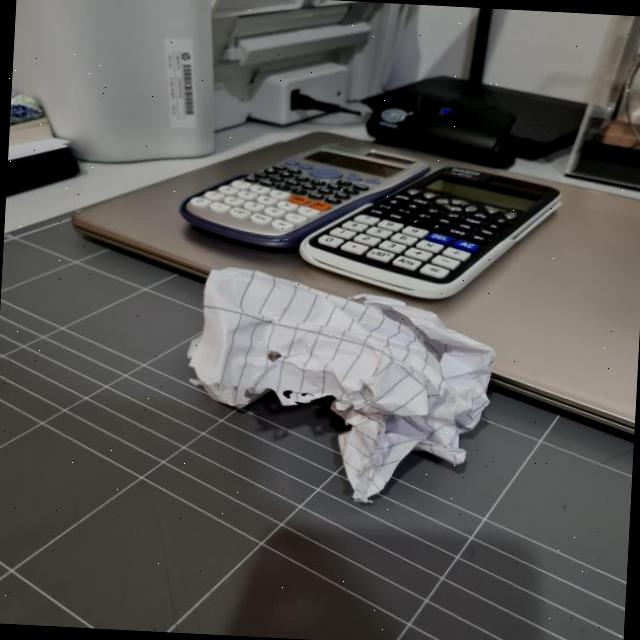trash: (182, 261, 500, 493)
